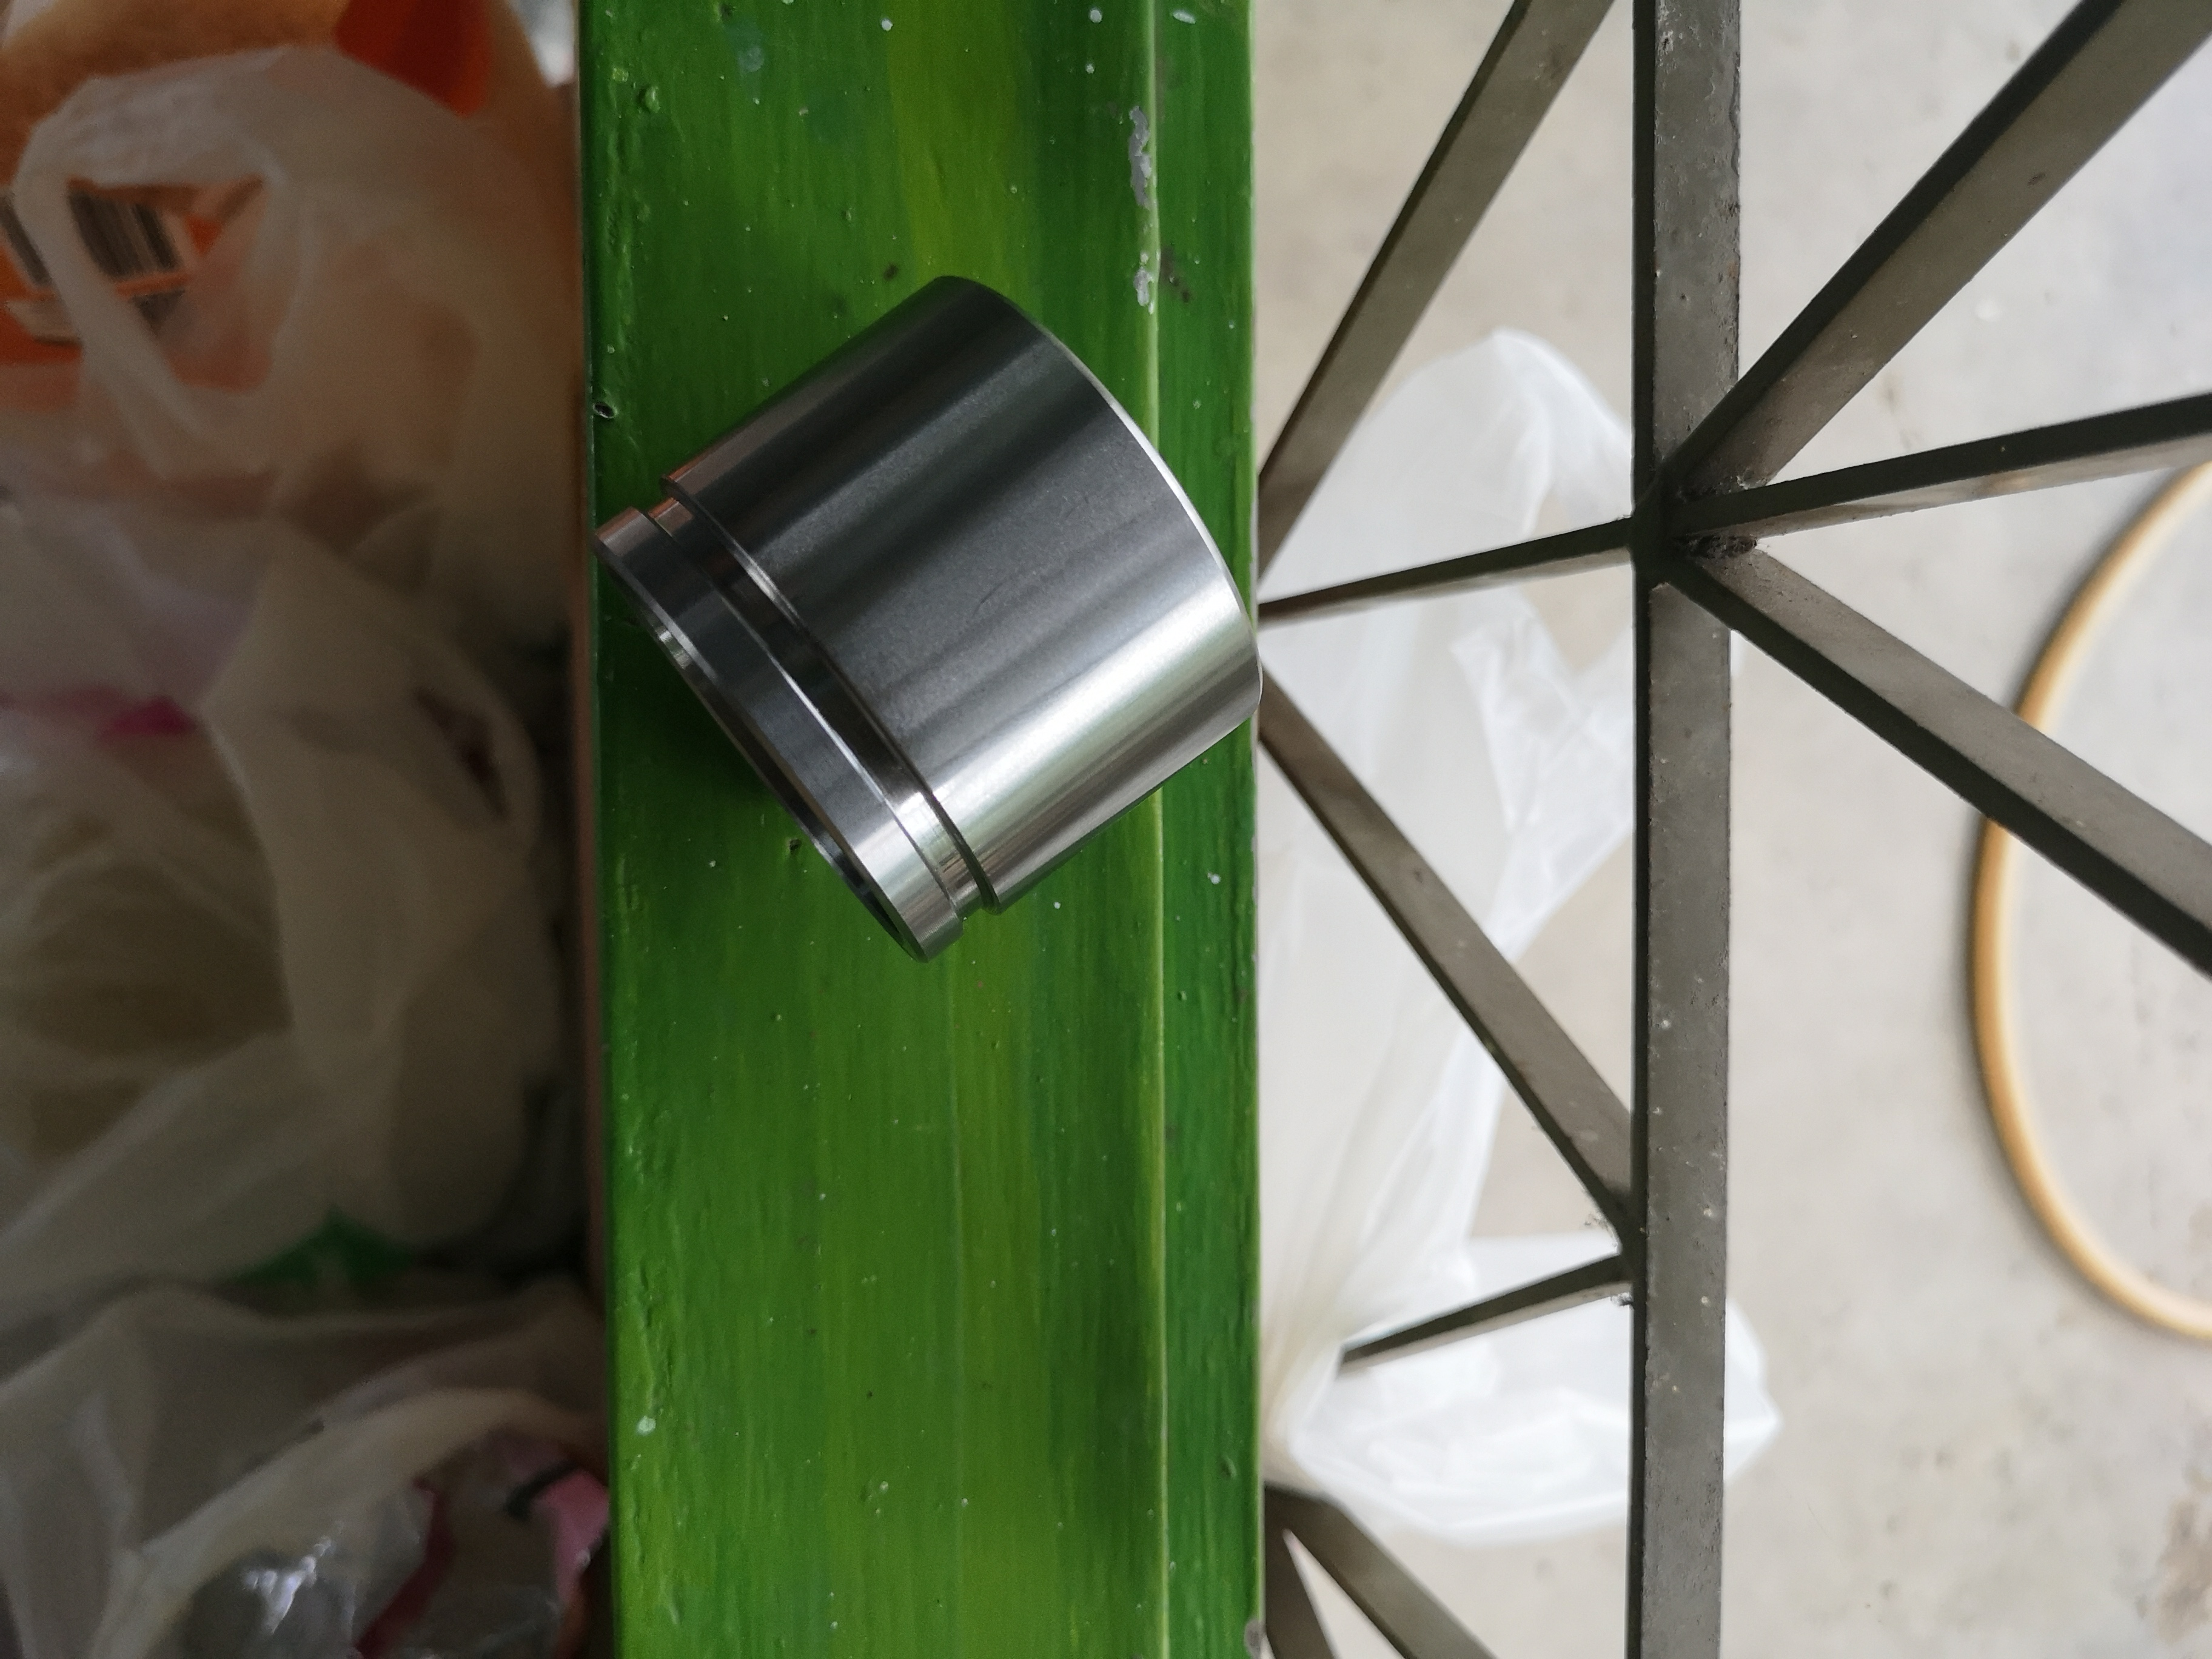ลูกสูบดิสเบรค: (597, 253, 1301, 957)
